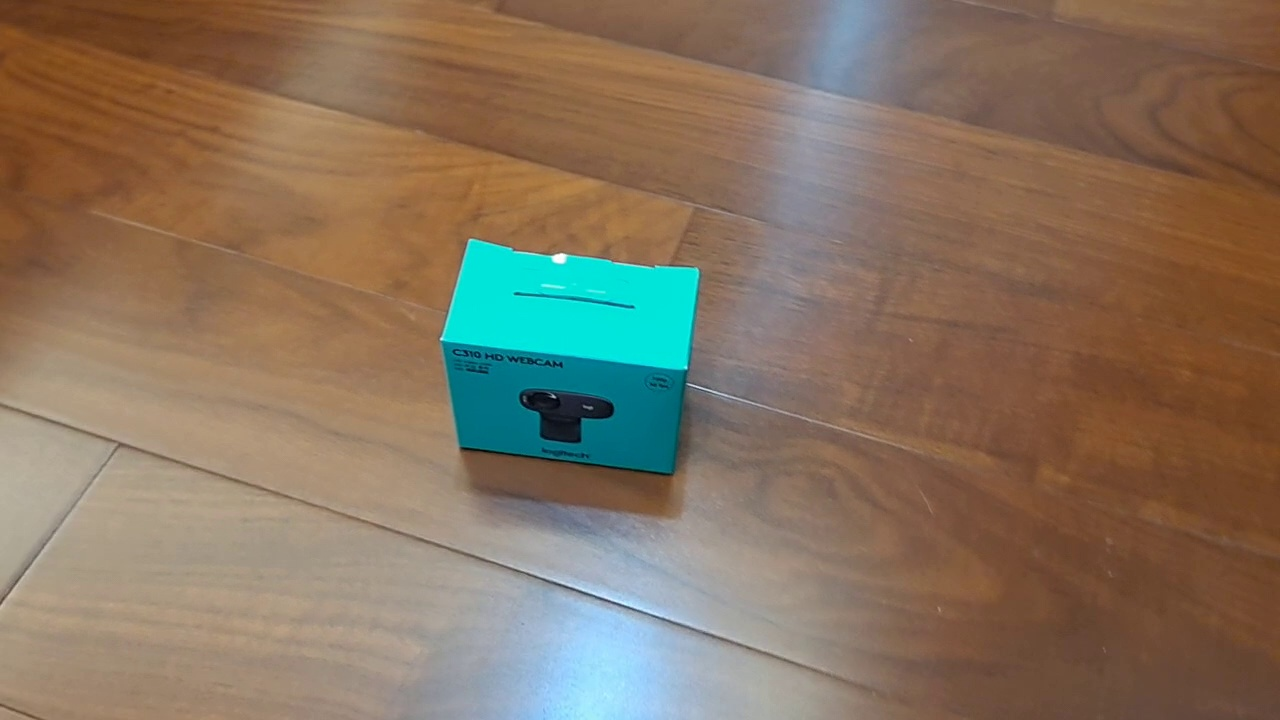webcam: (438, 237, 701, 476)
